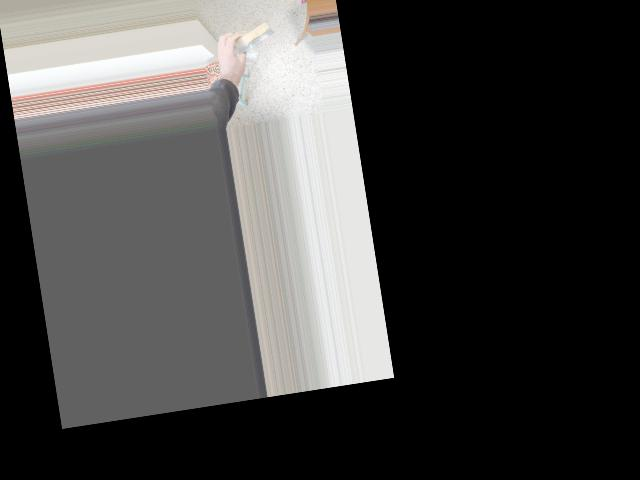cheese: (207, 6, 281, 69)
